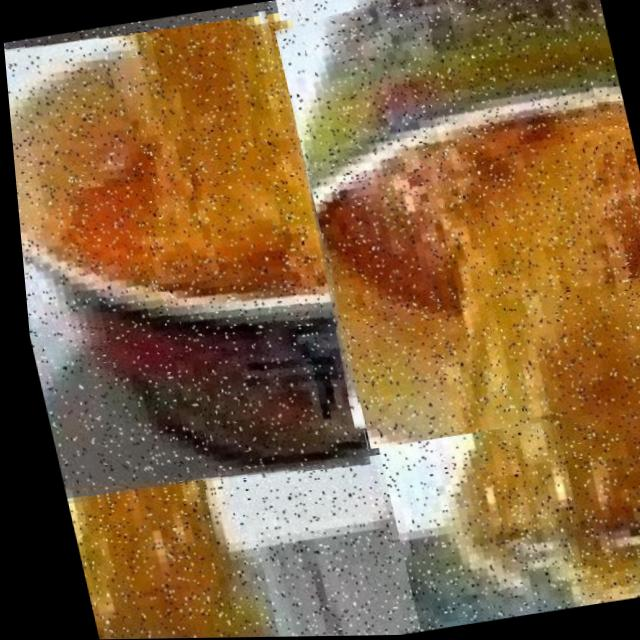Miscellaneous: (1, 7, 382, 508), (266, 0, 640, 450)
